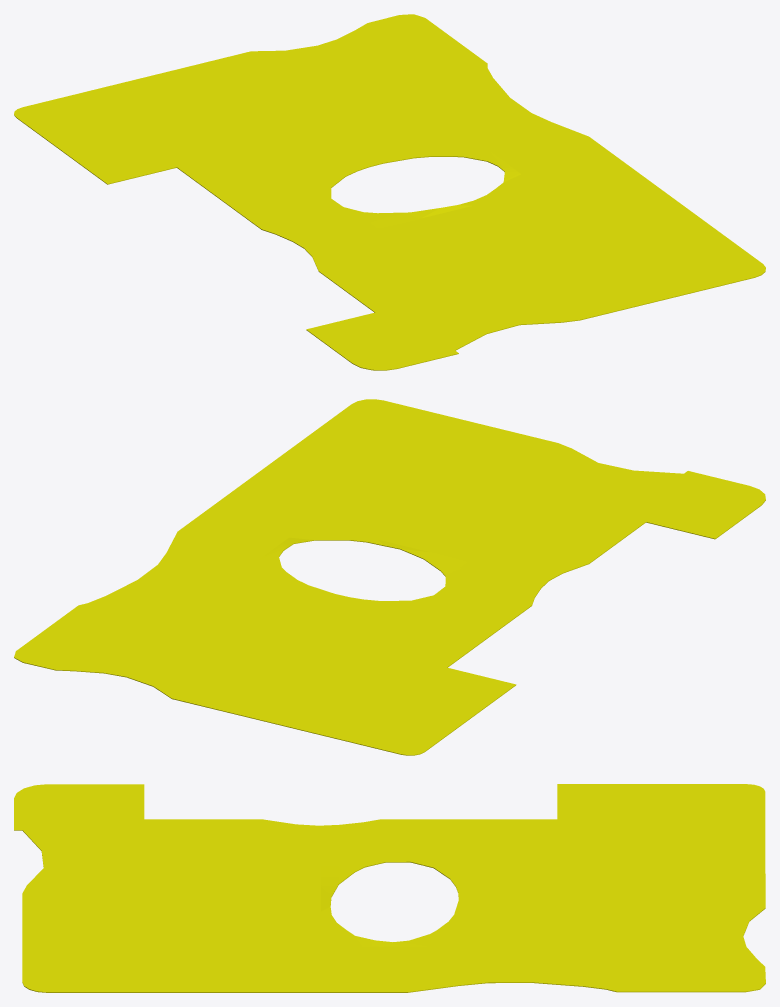
File: sm_hana_building_4f_ceiling.glb
The picture shows the model from 3 angles, top to bottom: view 1: azimuth 30°, elevation 25°; view 2: azimuth 150°, elevation 25°; view 3: azimuth 270°, elevation 25°; orthographic projection. The views are drawn at different scales.
Visible parts, largest first — view 1: sm_hana_building_4f_ceiling; view 2: sm_hana_building_4f_ceiling; view 3: sm_hana_building_4f_ceiling.
Boxes of the visible parts, x1,y1,x2,y2 form: sm_hana_building_4f_ceiling: (14,14,765,370); sm_hana_building_4f_ceiling: (14,399,765,755); sm_hana_building_4f_ceiling: (14,784,765,992).
Bounding box in the file's own units: 64.61 × 0.247 × 98.72.
Materials: 1 (1 with a texture image).
